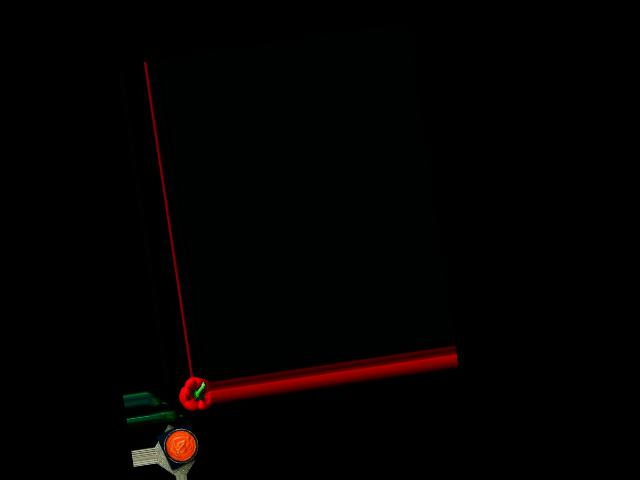bell_pepper: (177, 375, 212, 413)
